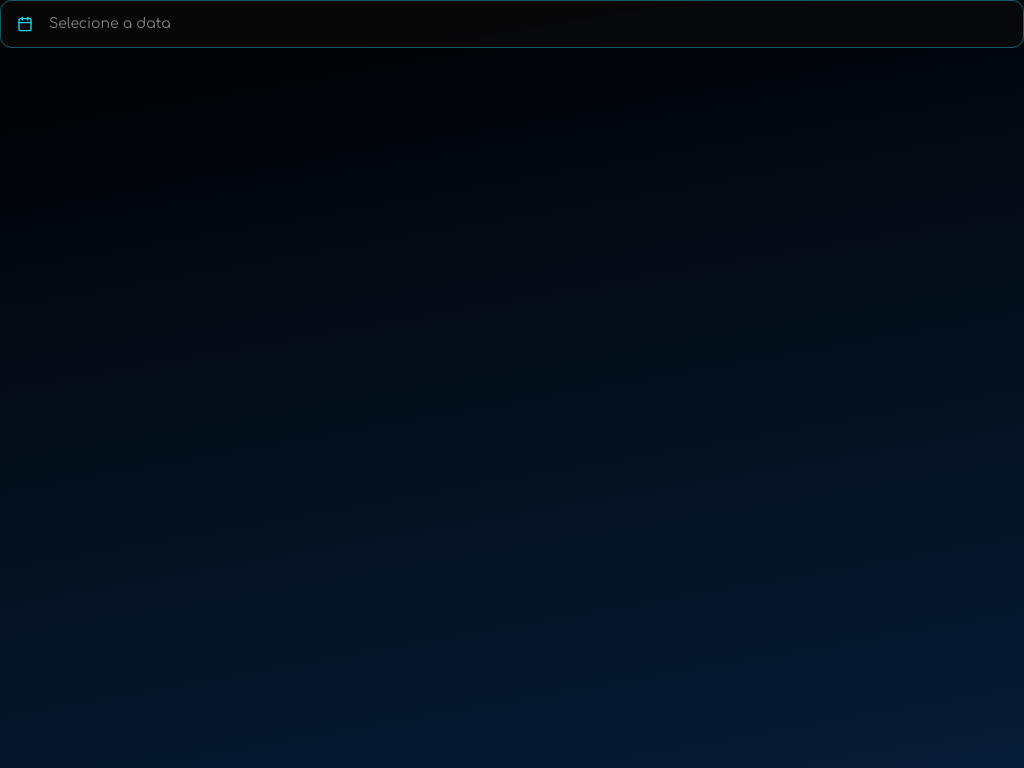
tour date picker cruise legend › hides the cruise marker when the tour does not use cruise dates
Click the button "Selecione a data" at [110, 24], box [0,0,1023,48]
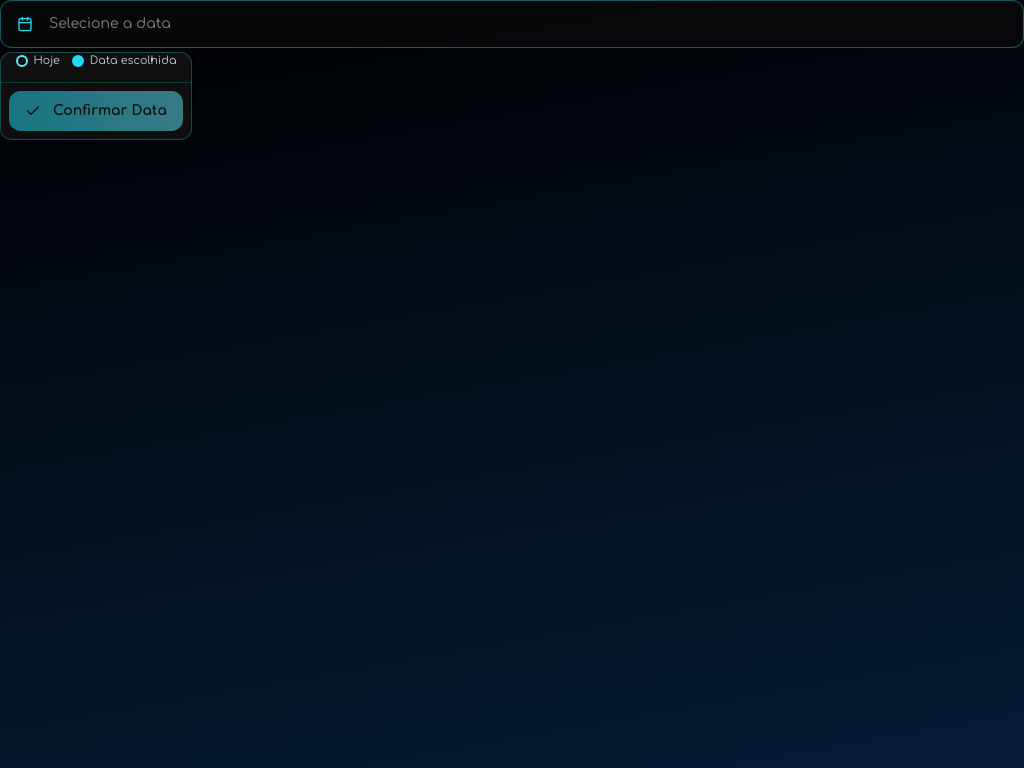
expect the element named "Legenda do calendário" does not show "Dia de cruzeiro": met, box [16,54,176,67]
expect the element named "Legenda do calendário" shows "Hoje": met, box [34,54,60,67]
expect the element named "Legenda do calendário" shows "Data escolhida": met, box [90,54,176,67]
